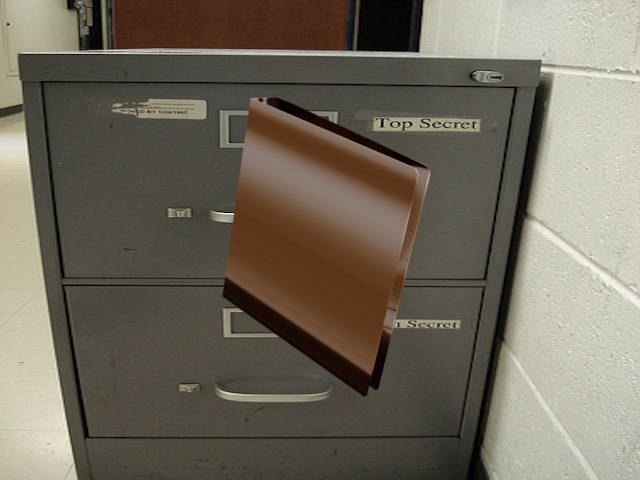ring_binder: (217, 96, 433, 400)
